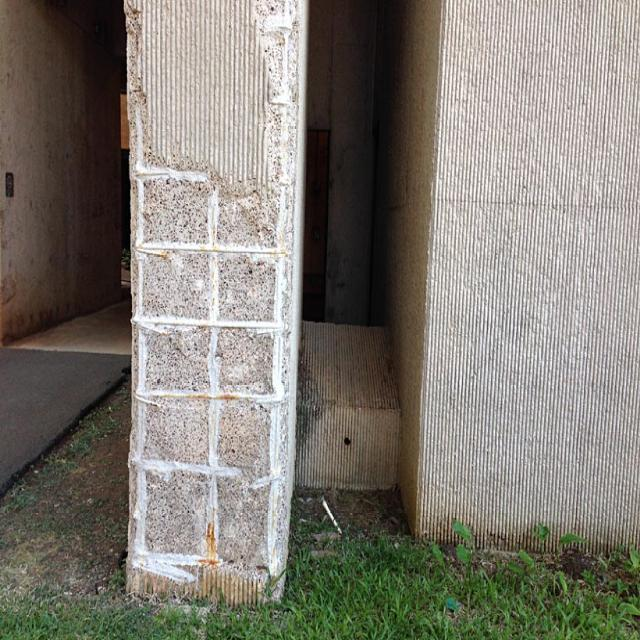Spalling: (136, 112, 281, 598)
